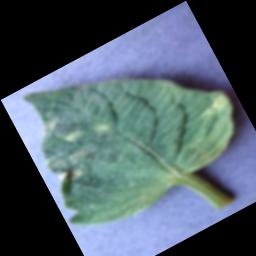Leaf_Mold: (28, 95, 127, 188), (195, 87, 234, 122)
